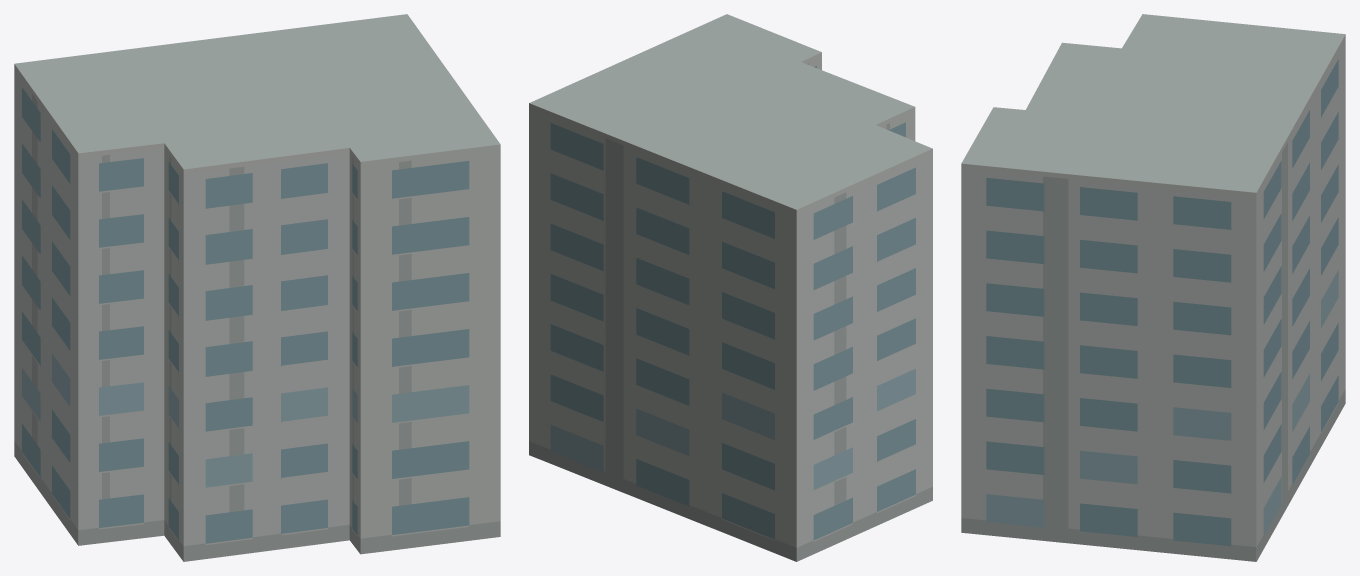
The model's file is survey-upis-32532289.glb.
3 renders of one model, left to right at view 1: azimuth 30°, elevation 25°; view 2: azimuth 150°, elevation 25°; view 3: azimuth 270°, elevation 25°, orthographic. The views are drawn at different scales.
Parts seen in each view (by area): view 1: survey-upis-32532289.tmp; view 2: survey-upis-32532289.tmp; view 3: survey-upis-32532289.tmp.
Boxes of the visible parts, x1,y1,x2,y2 form: survey-upis-32532289.tmp: [14, 14, 500, 561]; survey-upis-32532289.tmp: [529, 14, 932, 561]; survey-upis-32532289.tmp: [961, 14, 1345, 561].
Size of the model in its own units: 19.59 by 18.85 by 17.8.
